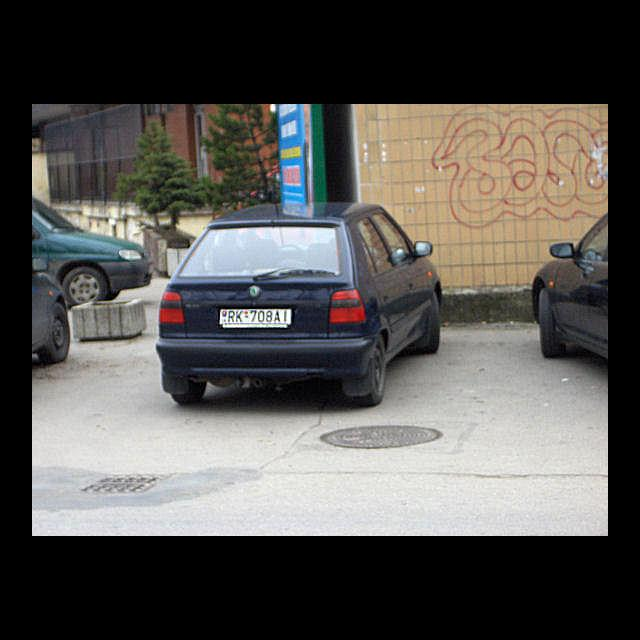Plate: (217, 305, 293, 329)
